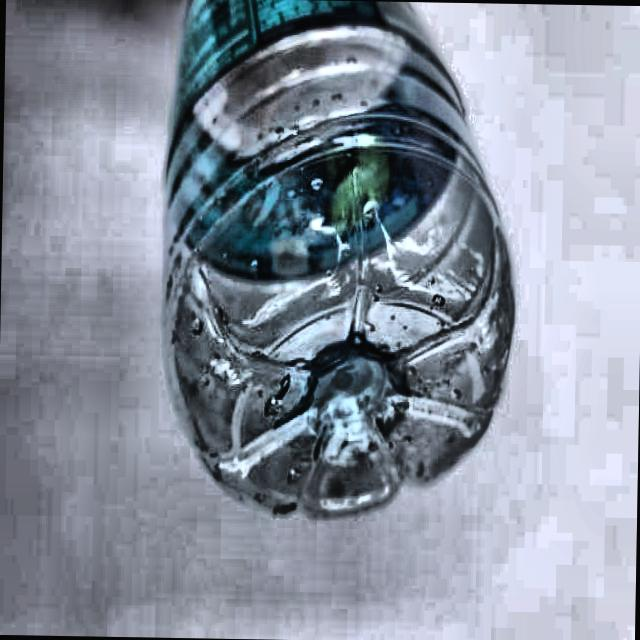plastic bottle: (163, 0, 513, 517)
